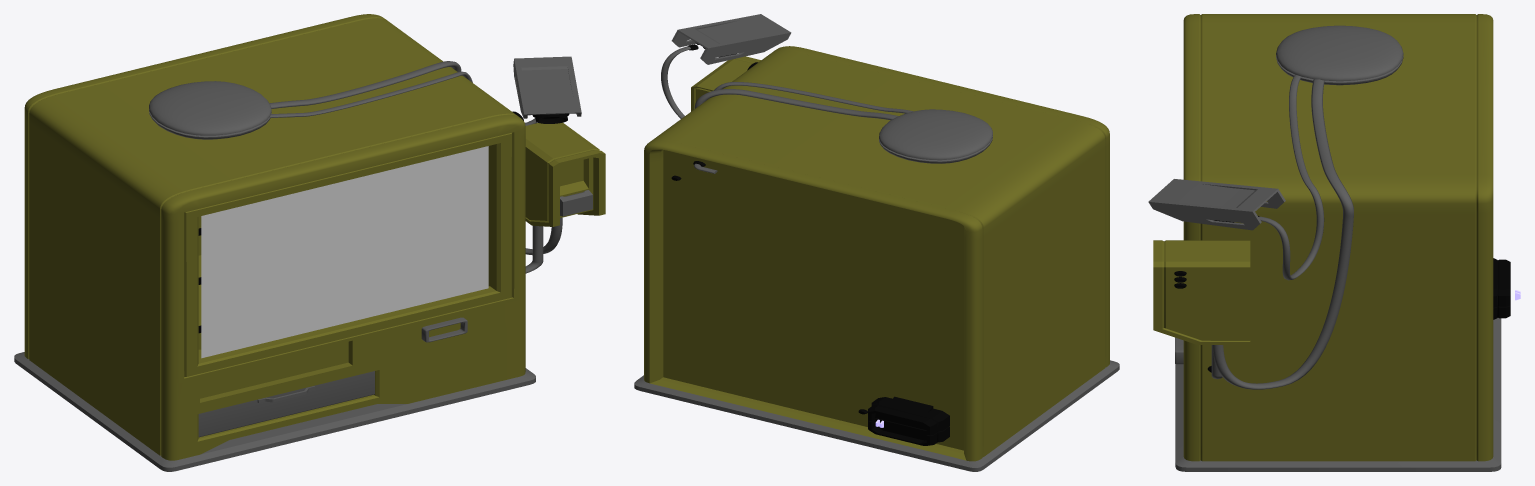
The model's file is shop 1.fbx.
3 views of the same model, side by side, from view 1: azimuth 30°, elevation 25°; view 2: azimuth 150°, elevation 25°; view 3: azimuth 270°, elevation 25° (orthographic). The views are drawn at different scales.
Visible parts, largest first — view 1: Desirefx.me_CyberProp_SodaMachine_PlasticYellow, Desirefx.me_CyberProp_SodaMachine_GlassTransparent, Desirefx.me_CyberProp_SodaMachine_PaintBlack, Desirefx.me_CyberProp_SodaMachine_Rubber; view 2: Desirefx.me_CyberProp_SodaMachine_PlasticYellow, Desirefx.me_CyberProp_SodaMachine_PaintBlack, Desirefx.me_CyberProp_SodaMachine_PlasticBlack, Desirefx.me_CyberProp_SodaMachine_Rubber; view 3: Desirefx.me_CyberProp_SodaMachine_PlasticYellow, Desirefx.me_CyberProp_SodaMachine_PaintBlack, Desirefx.me_CyberProp_SodaMachine_Rubber, Desirefx.me_CyberProp_SodaMachine_PlasticBlack.
Part boxes in pixels (x1,y1,x2,y2): Desirefx.me_CyberProp_SodaMachine_PlasticYellow: (24,14,605,460); Desirefx.me_CyberProp_SodaMachine_GlassTransparent: (201,146,488,358); Desirefx.me_CyberProp_SodaMachine_PaintBlack: (14,56,592,471); Desirefx.me_CyberProp_SodaMachine_Rubber: (269,61,562,273); Desirefx.me_CyberProp_SodaMachine_PlasticYellow: (644,46,1109,461); Desirefx.me_CyberProp_SodaMachine_PaintBlack: (634,14,1119,471); Desirefx.me_CyberProp_SodaMachine_PlasticBlack: (671,42,949,445); Desirefx.me_CyberProp_SodaMachine_Rubber: (661,46,913,173); Desirefx.me_CyberProp_SodaMachine_PlasticYellow: (1153,14,1493,461); Desirefx.me_CyberProp_SodaMachine_PaintBlack: (1148,25,1501,471); Desirefx.me_CyberProp_SodaMachine_Rubber: (1211,74,1353,389); Desirefx.me_CyberProp_SodaMachine_PlasticBlack: (1174,216,1510,372).
Bounding box in the file's own units: 16.02 × 9.81 × 11.1.
